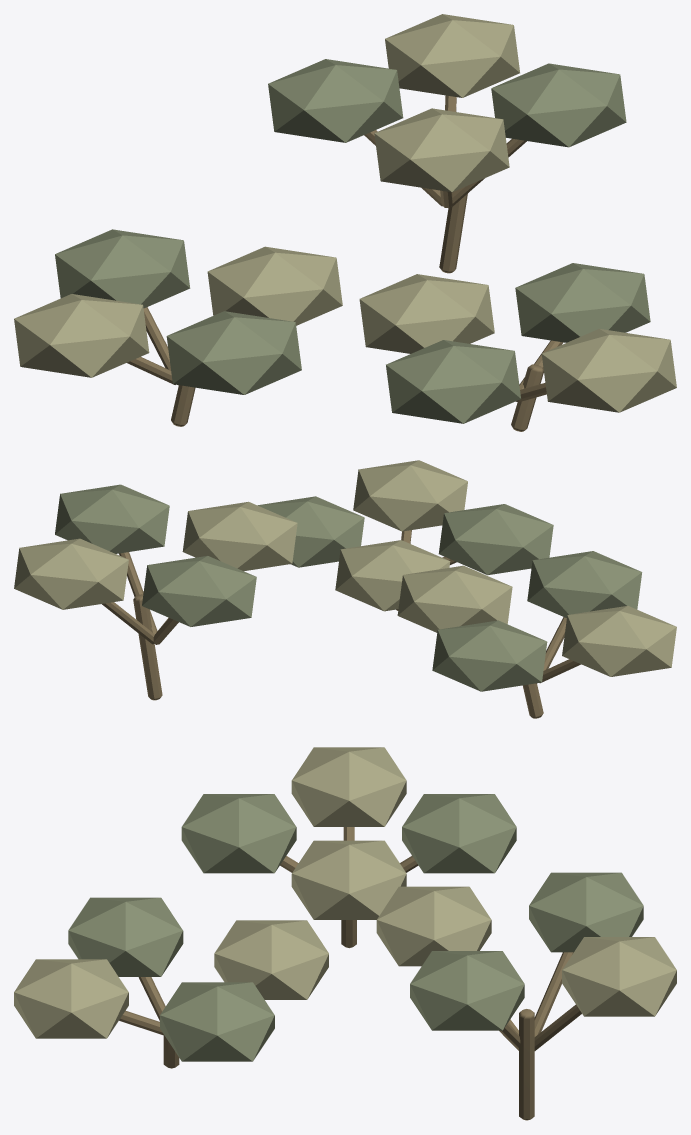
The model's file is DryScrub.glb.
3 views of the same model, one above another, from view 1: azimuth 30°, elevation 25°; view 2: azimuth 150°, elevation 25°; view 3: azimuth 270°, elevation 25° (orthographic). The views are drawn at different scales.
Parts seen in each view (by area): view 1: Drought sage crown.002, Drought sage crown.005, Drought sage crown.003, Drought sage crown.006, Drought sage crown.009, Drought sage crown.010, Drought sage crown.007, Drought sage crown.004, Drought sage crown.011, Drought sage crown.008, Drought sage crown, Drought sage crown.001 (+4 smaller); view 2: Drought sage crown.001, Drought sage crown.004, Drought sage crown.002, Drought sage crown.005, Drought sage crown.009, Drought sage crown.010, Drought sage crown.006, Drought sage crown.007, Drought sage crown, Drought sage crown.003, Drought sage crown.008, Drought sage crown.011 (+5 smaller); view 3: Drought sage crown.003, Drought sage crown.002, Drought sage crown.010, Drought sage crown.004, Drought sage crown.011, Drought sage crown.007, Drought sage crown.001, Drought sage crown, Drought sage crown.009, Drought sage crown.008, Drought sage crown.005, Drought sage crown.006 (+3 smaller).
Boxes of the visible parts, x1,y1,x2,y2 form: Drought sage crown.002: [14, 294, 149, 377]; Drought sage crown.005: [268, 59, 403, 142]; Drought sage crown.003: [166, 311, 301, 394]; Drought sage crown.006: [374, 108, 509, 192]; Drought sage crown.009: [386, 340, 520, 423]; Drought sage crown.010: [541, 328, 676, 412]; Drought sage crown.007: [491, 63, 626, 147]; Drought sage crown.004: [385, 14, 519, 97]; Drought sage crown.011: [515, 263, 650, 342]; Drought sage crown.008: [359, 274, 494, 353]; Drought sage crown: [207, 246, 342, 325]; Drought sage crown.001: [55, 229, 190, 308]; Drought sage crown.001: [432, 620, 547, 691]; Drought sage crown.004: [14, 538, 128, 609]; Drought sage crown.002: [562, 606, 676, 676]; Drought sage crown.005: [142, 556, 256, 626]; Drought sage crown.009: [438, 504, 553, 575]; Drought sage crown.010: [353, 460, 467, 531]; Drought sage crown.006: [182, 501, 297, 570]; Drought sage crown.007: [55, 484, 169, 553]; Drought sage crown: [397, 565, 512, 632]; Drought sage crown.003: [527, 551, 642, 618]; Drought sage crown.008: [335, 540, 450, 611]; Drought sage crown.011: [257, 496, 364, 567]; Drought sage crown.003: [181, 794, 296, 873]; Drought sage crown.002: [291, 747, 406, 826]; Drought sage crown.010: [14, 959, 128, 1038]; Drought sage crown.004: [562, 937, 676, 1016]; Drought sage crown.011: [160, 982, 274, 1061]; Drought sage crown.007: [410, 951, 524, 1030]; Drought sage crown.001: [402, 794, 516, 873]; Drought sage crown: [291, 840, 406, 919]; Drought sage crown.009: [68, 897, 183, 976]; Drought sage crown.008: [214, 920, 328, 999]; Drought sage crown.005: [529, 872, 643, 952]; Drought sage crown.006: [376, 886, 491, 966].
Size of the model in its own units: 2.11 by 0.6298 by 1.87.
